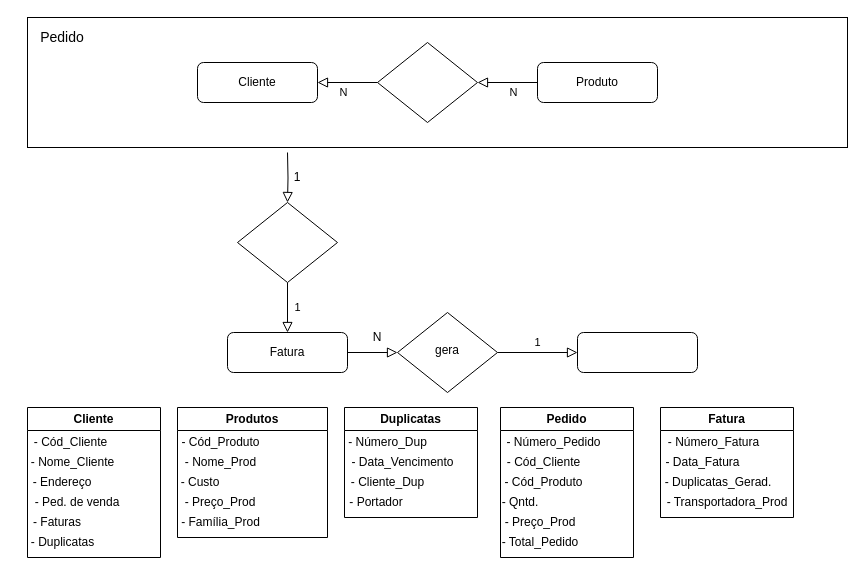
The diagram is 865 pixels wide and 575 high, and some of its shapes have lost their labels. Each missing label, with the centre of its shape:
Compra: the point at 427,82
Duplicato: the point at 637,352
Emite: the point at 287,242
